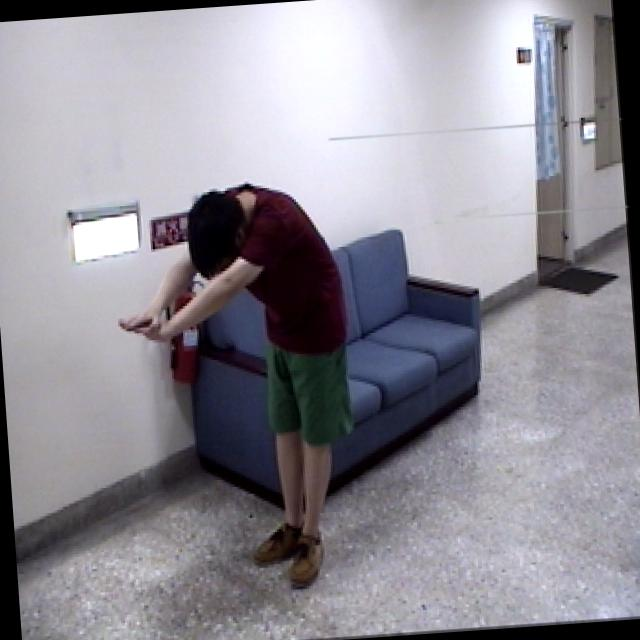bend: (111, 172, 378, 598)
